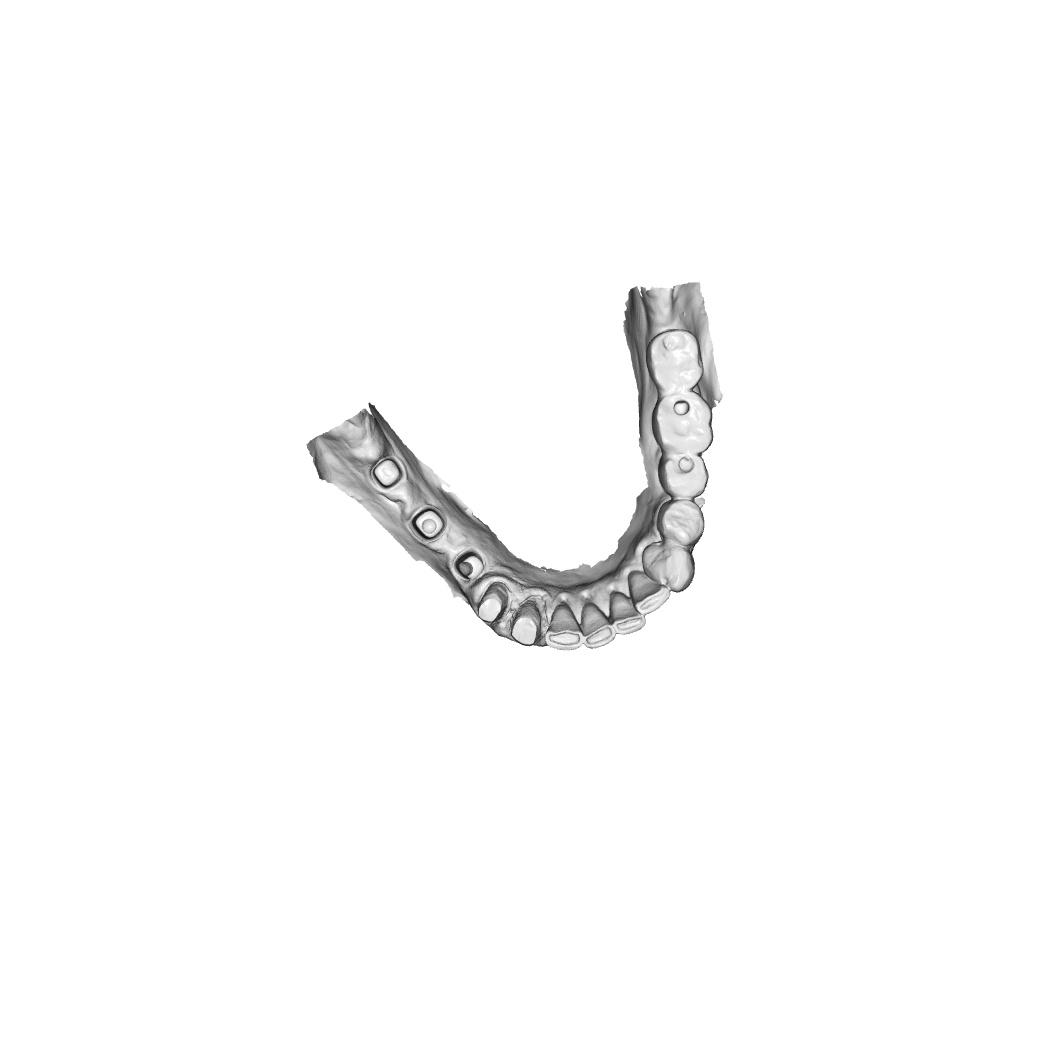abutment: (408, 505, 448, 545), (370, 455, 408, 493), (453, 548, 486, 582)
canine: (641, 541, 696, 594)
crown: (510, 594, 547, 647), (476, 580, 513, 625)
incisor: (627, 570, 671, 615), (545, 602, 584, 652), (609, 590, 647, 636), (581, 602, 617, 649)
molar: (651, 392, 714, 455), (645, 328, 705, 391)
premolar: (656, 498, 705, 548), (657, 453, 709, 498)
